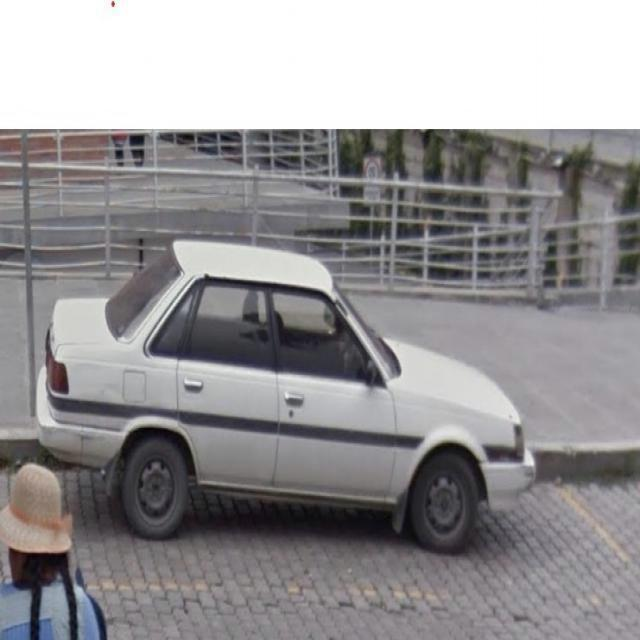Car: (38, 244, 535, 536)
